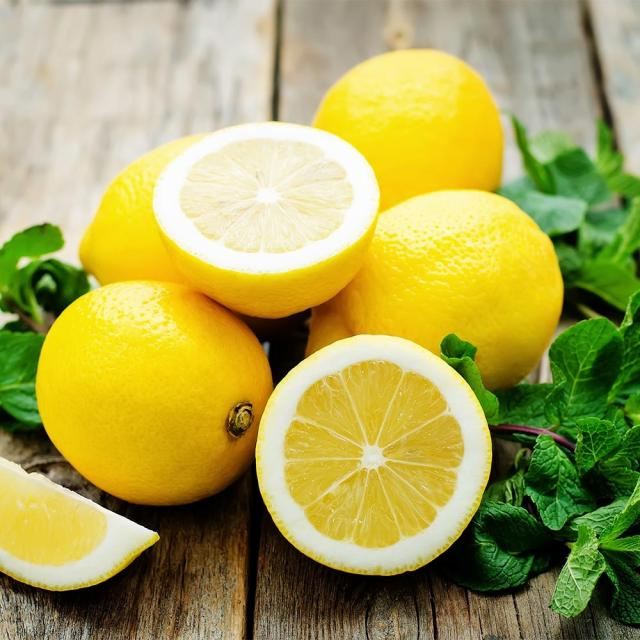Quả chanh: (254, 333, 493, 576), (34, 278, 274, 506), (304, 188, 564, 392), (310, 46, 504, 214)
